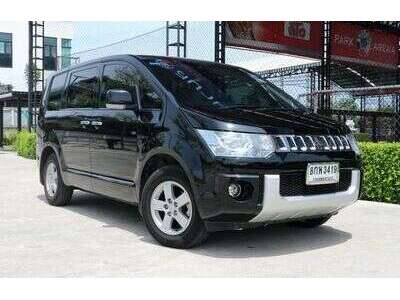van: (33, 52, 363, 248)
